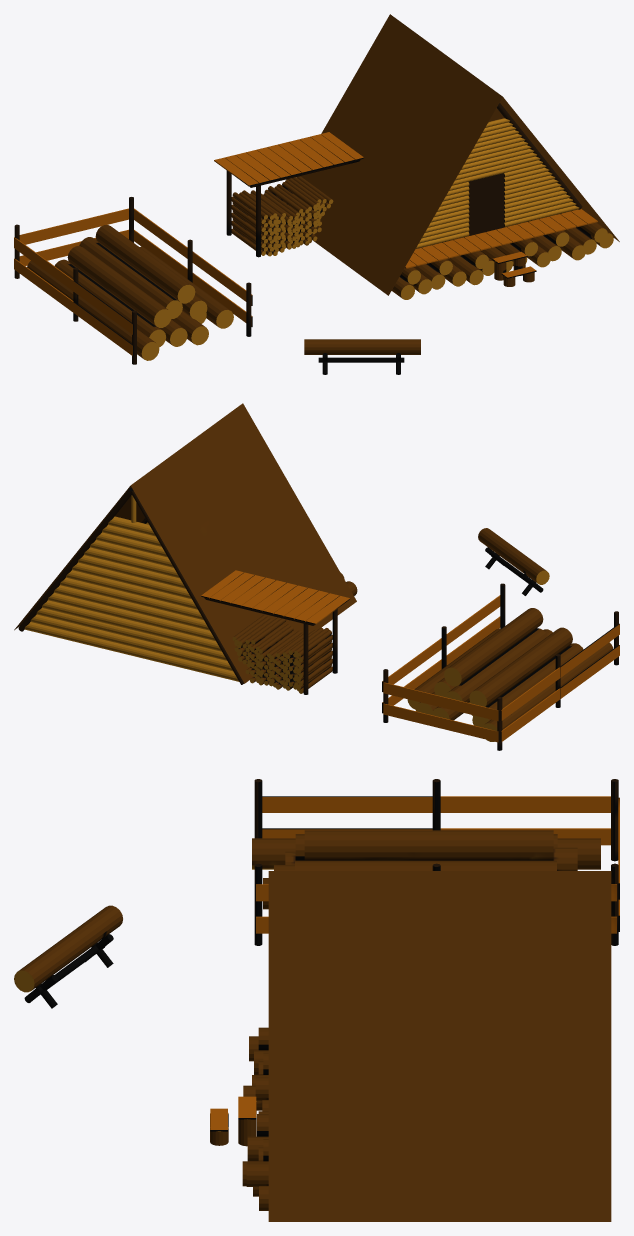
Rendered from lumberjack.fbx.
The picture shows the model from 3 angles, top to bottom: view 1: azimuth 30°, elevation 25°; view 2: azimuth 150°, elevation 25°; view 3: azimuth 270°, elevation 25°; orthographic projection. The views are drawn at different scales.
Parts seen in each view (by area): view 1: lumberjack; view 2: lumberjack; view 3: lumberjack.
Part boxes in pixels (x1,y1,x2,y2): lumberjack: (14,14,619,374); lumberjack: (14,403,619,750); lumberjack: (14,779,619,1221).
Bounding box in the file's own units: 1934 × 662 × 1360.
